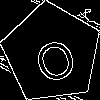O: (27, 28, 81, 87)
